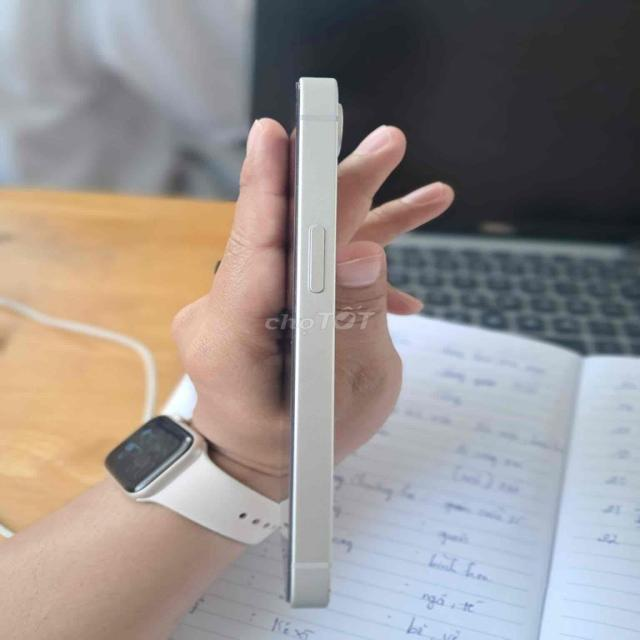gen_16: (284, 78, 342, 606)
